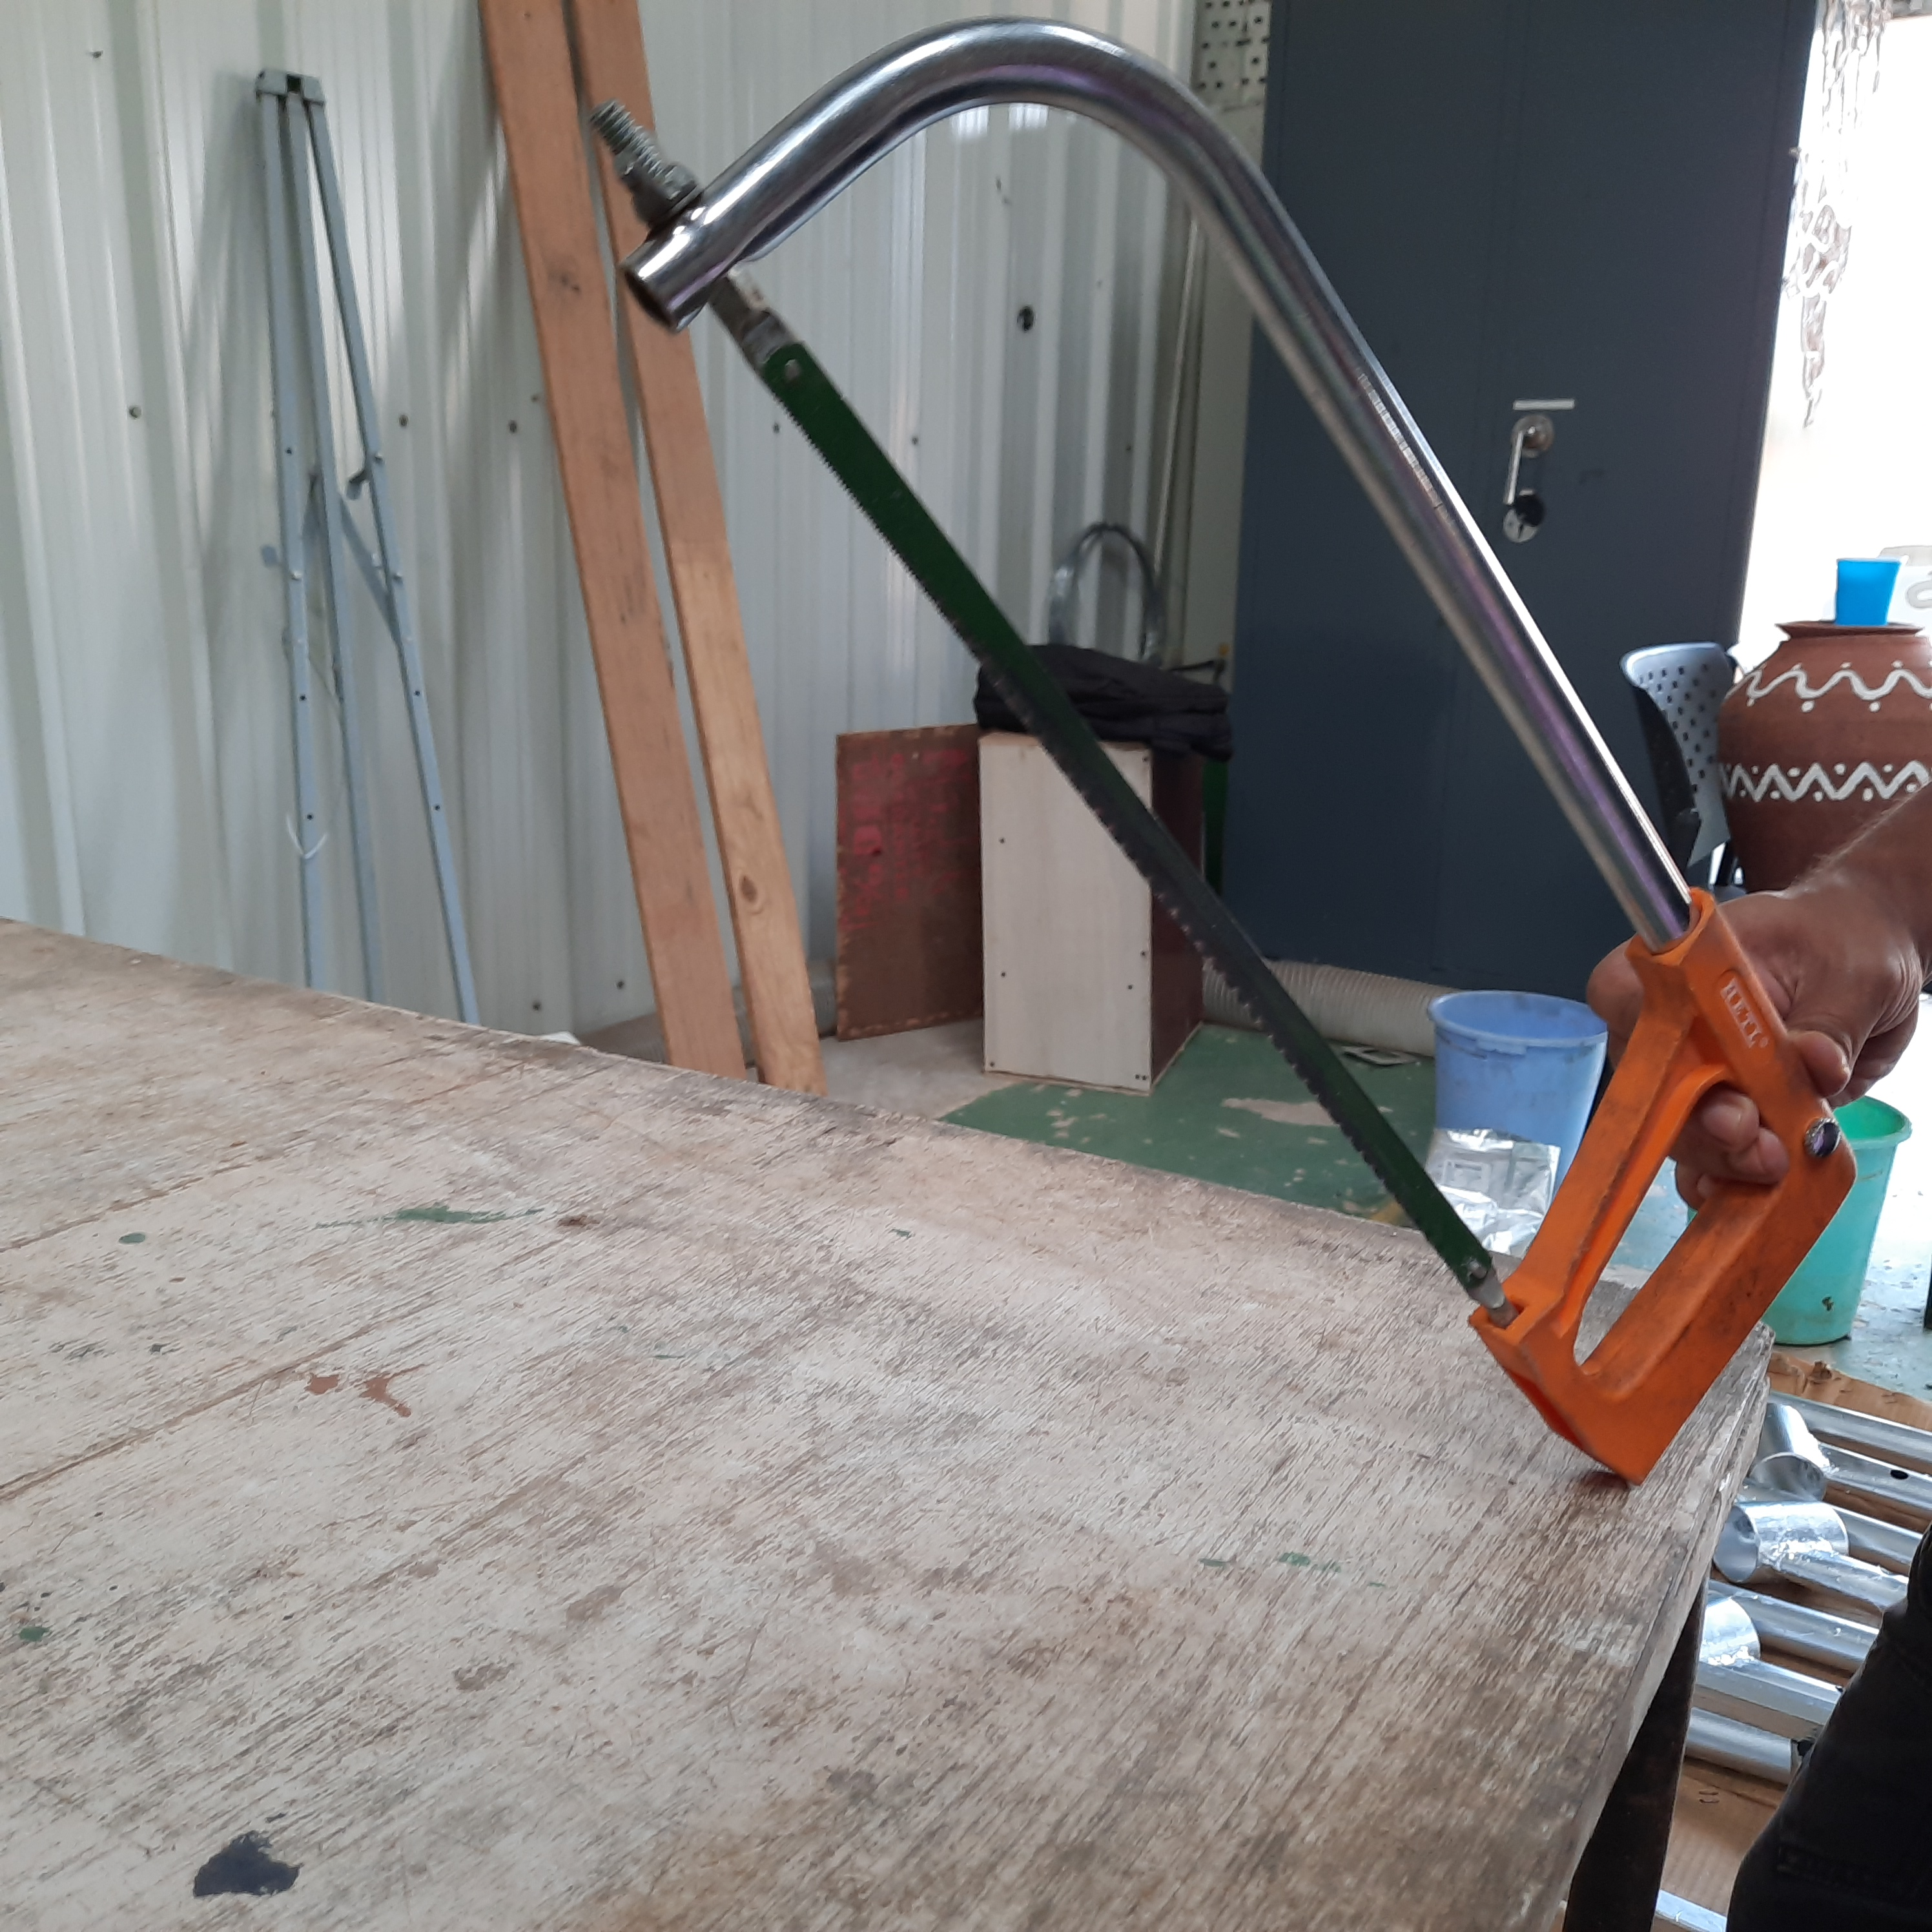Hexaframe: (580, 14, 1838, 1474)
